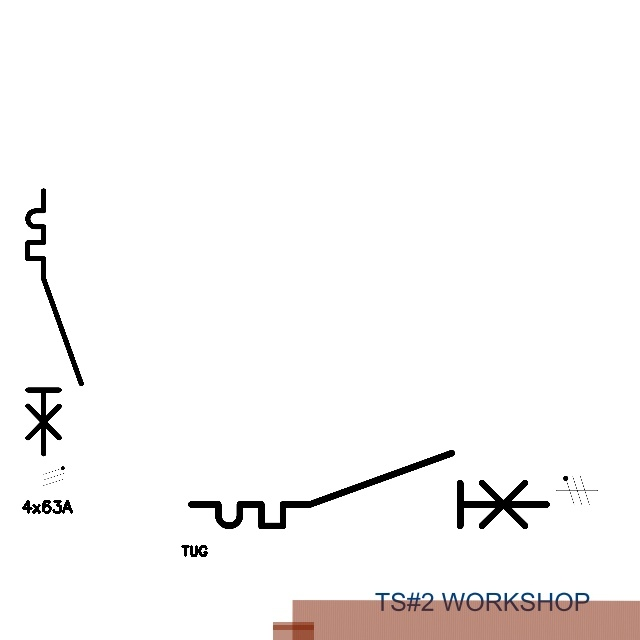interruptor_termomagnetico: (182, 444, 555, 535), (21, 184, 88, 460)
